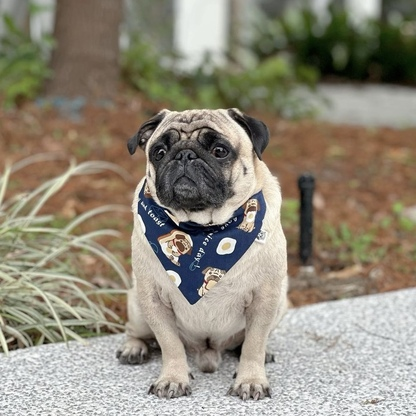Pug: (113, 103, 293, 404)
